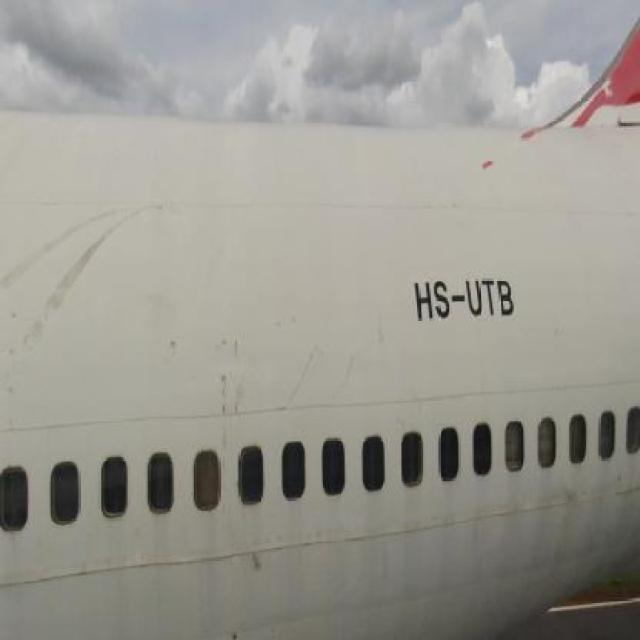Scartch: (202, 324, 244, 439), (6, 310, 25, 436), (250, 547, 272, 591)
